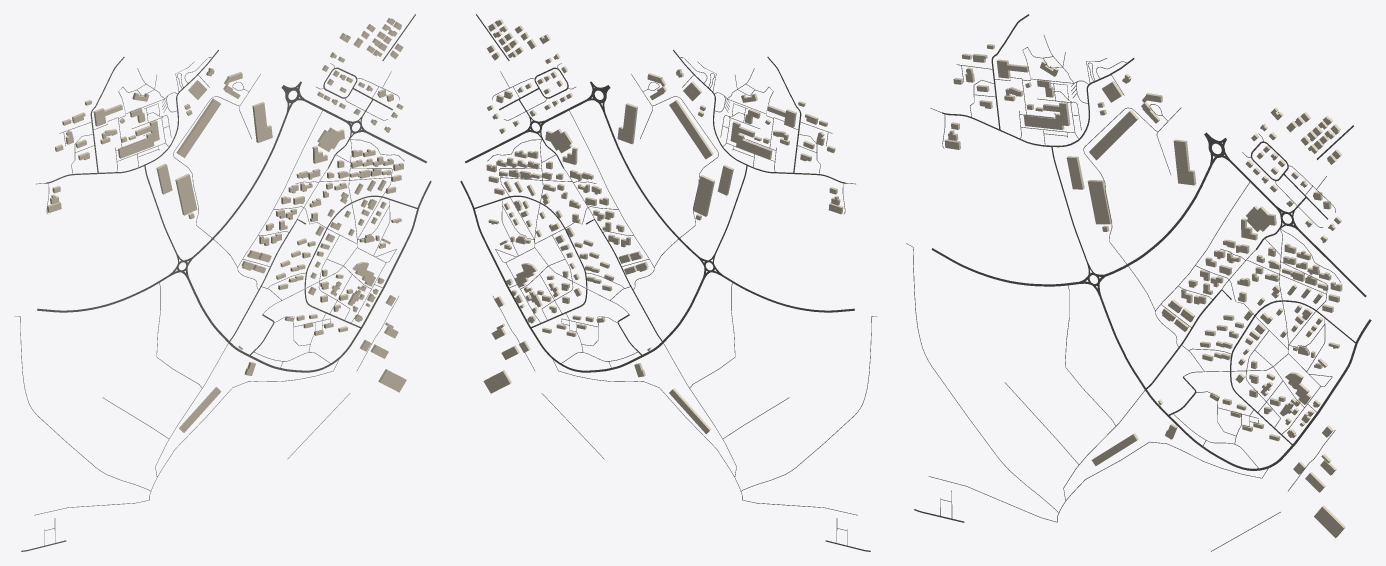
Rendered from historic-palestine-05_22_3471_3169.glb.
3 renders of one model, left to right at view 1: azimuth 30°, elevation 25°; view 2: azimuth 150°, elevation 25°; view 3: azimuth 330°, elevation 25°, orthographic. The views are drawn at different scales.
Visible parts, largest first — view 1: Building_.016, Building_.034, Building_.017, Building_.019, Road .009; view 2: Building_.034, Building_.016, Building_.017, Building_.019, Road .009; view 3: Building_.034, Building_.017, Building_.016, Building_.019, Road .009.
Boxes of the visible parts, bbox=[...] form: Building_.016: bbox=[176, 98, 220, 158]; Building_.034: bbox=[118, 120, 159, 158]; Building_.017: bbox=[175, 173, 197, 215]; Building_.019: bbox=[252, 102, 272, 142]; Road .009: bbox=[187, 278, 340, 372]; Building_.034: bbox=[730, 121, 772, 159]; Building_.016: bbox=[669, 99, 713, 159]; Building_.017: bbox=[693, 175, 714, 216]; Building_.019: bbox=[617, 103, 637, 144]; Road .009: bbox=[551, 278, 704, 372]; Building_.034: bbox=[1023, 102, 1070, 129]; Building_.017: bbox=[1087, 180, 1112, 224]; Building_.016: bbox=[1089, 110, 1138, 160]; Building_.019: bbox=[1173, 139, 1196, 185]; Road .009: bbox=[1099, 296, 1269, 470].
Bounding box in the file's own units: 1097 × 1182 × 8.7.
